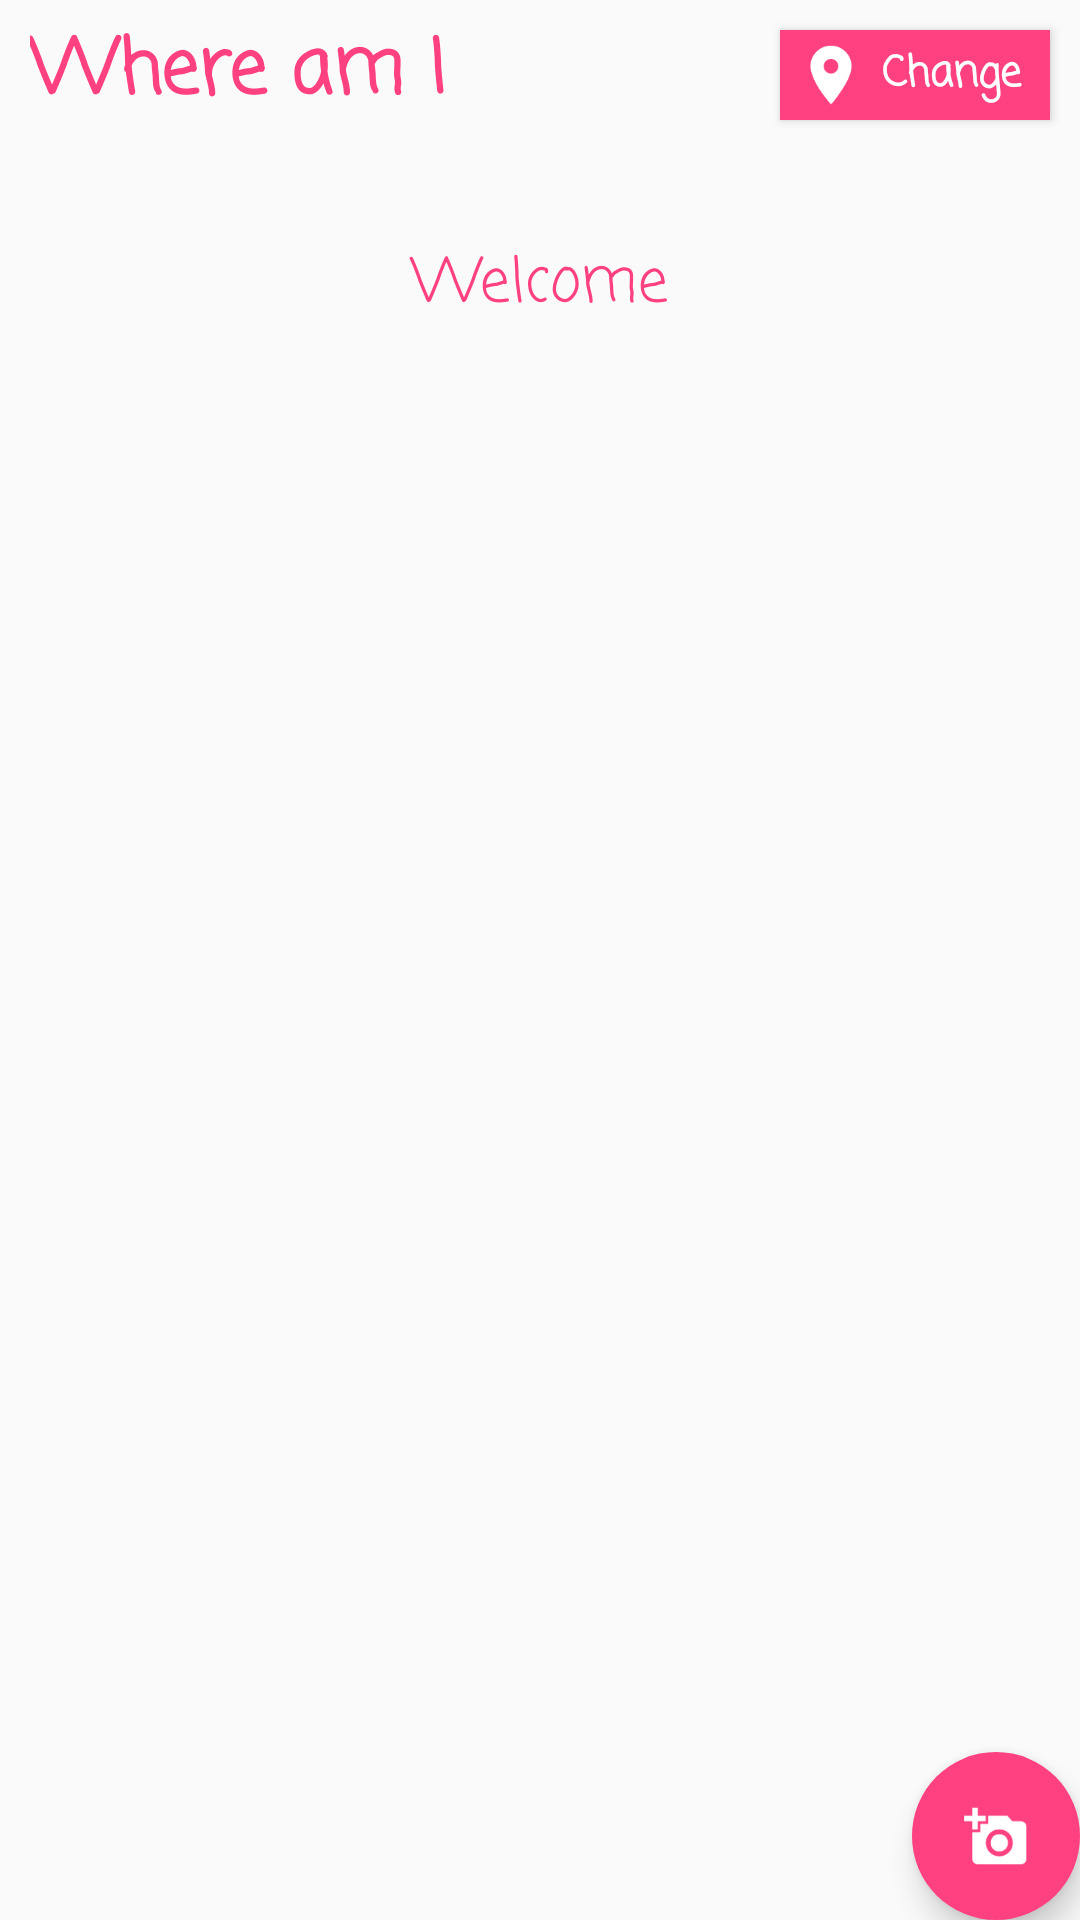

Locate icon controls on the screen. Image size 1080×1920, boxes as (x1, y1, x2, y2).
camera pad: (912, 1752, 1080, 1920)
